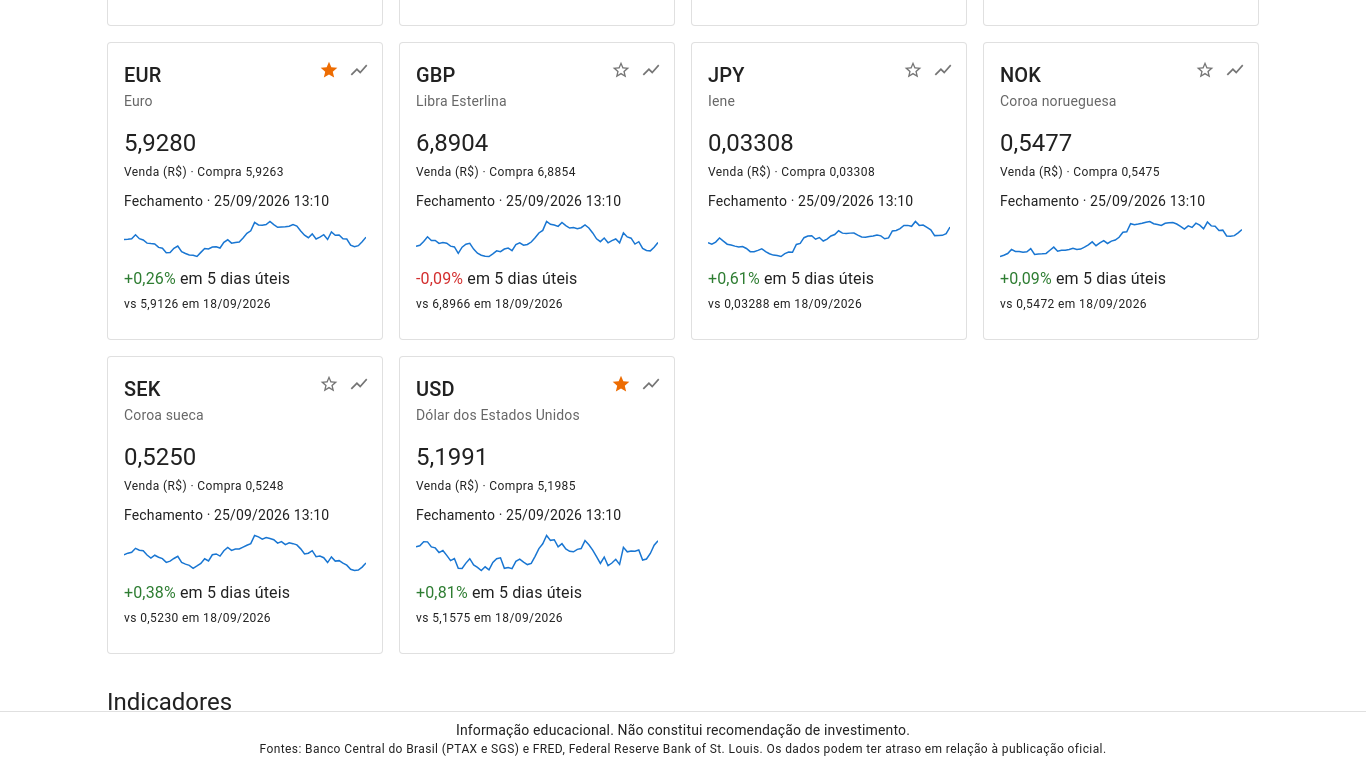
Test: App › should list the PTAX limitations in the chart modal of a currency
(page scrolled)
Click the button named "Ver gráfico de USD": [651, 384] box [636,369,666,399]
(page scrolled)
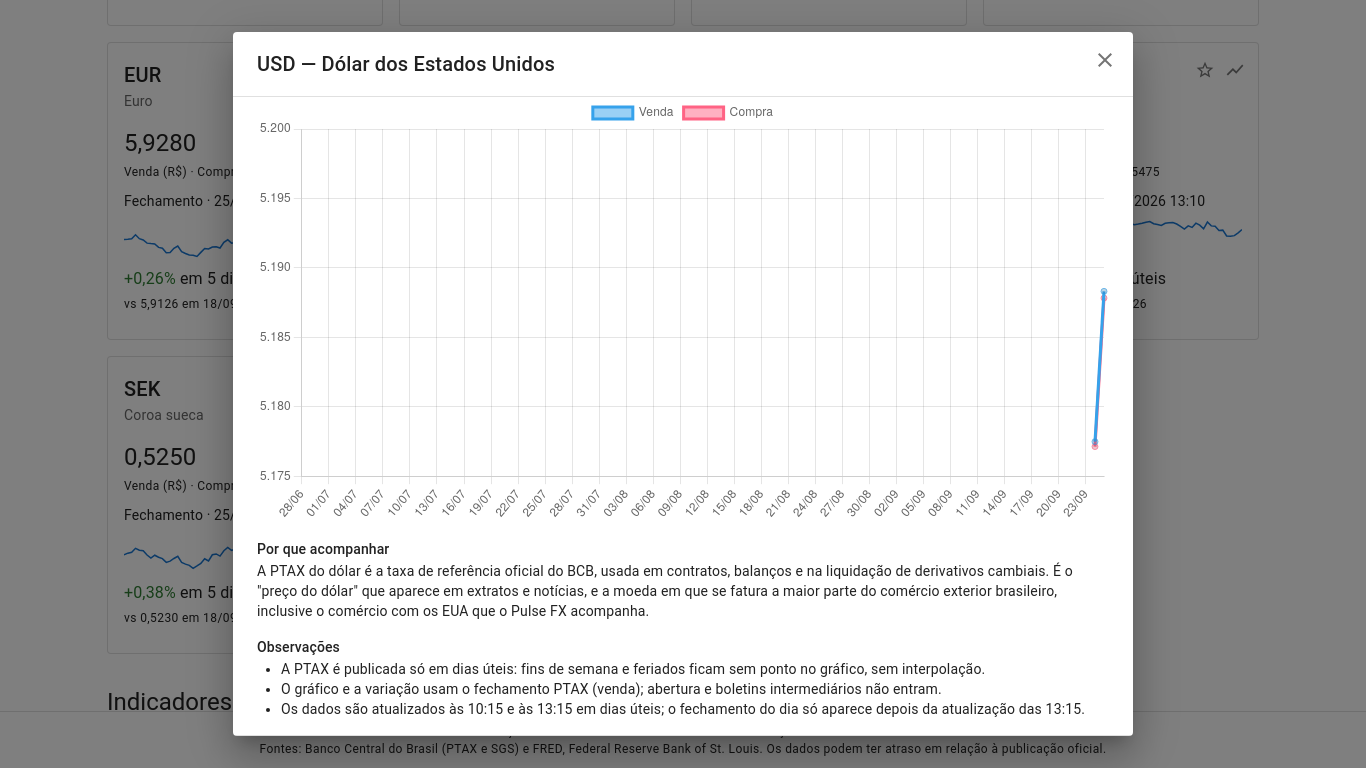
Now the list item "A PTAX é publicada só em dias úteis: fins de semana e feriados ficam sem ponto no gráfico, sem interpolação." is shown, box [281,661,985,677]
